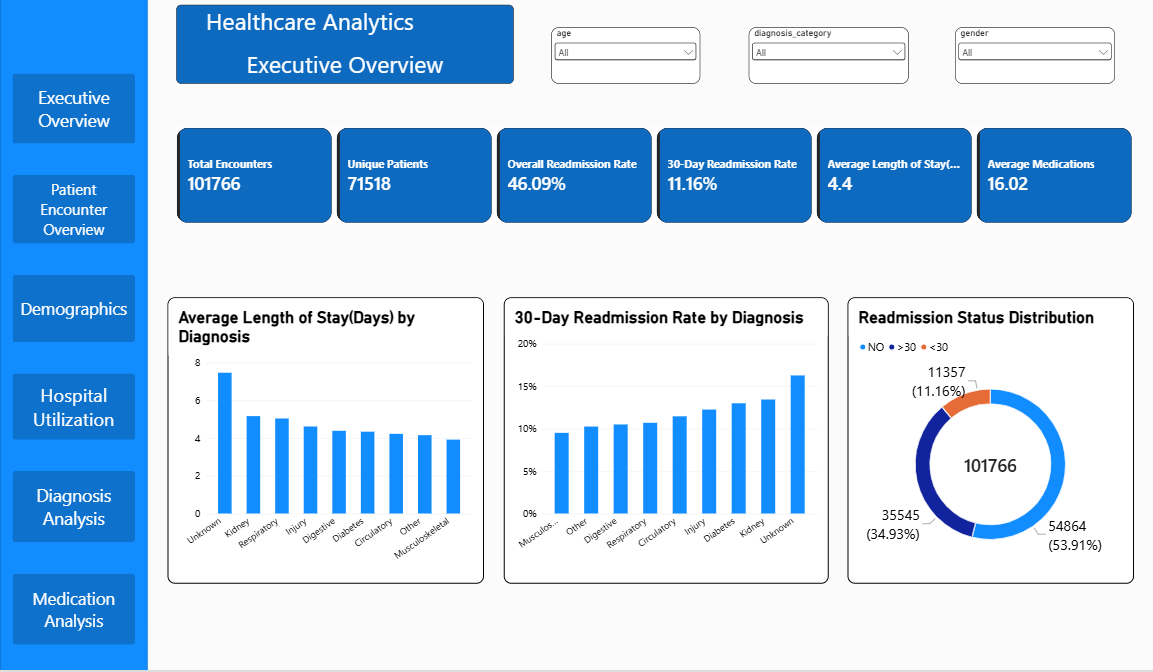

What the dashboard file says about the page in this screenshot:
{"tool":"powerbi","page":{"name":"Executive Overview","canvas":[1920,1080],"ordinal":0},"visuals":[{"type":"slicer","fields":{"Values":["healthcare_data_cleaned.diagnosis_category"]},"box":[1198,50,256,90],"z":6},{"type":"slicer","fields":{"Values":["healthcare_data_cleaned.age"]},"box":[882,50,238,90],"z":7},{"type":"donutChart","title":"Readmission Status Distribution","fields":{"Category":["healthcare_data_cleaned.readmitted"],"Y":["healthcare_data_cleaned.Total Encounters"]},"box":[1356,482,458,458],"z":8},{"type":"clusteredColumnChart","title":"30-Day Readmission Rate by Diagnosis","fields":{"Category":["healthcare_data_cleaned.diagnosis_category"],"Y":["healthcare_data_cleaned.30-Day Readmission Rate"]},"box":[805,482,520,458],"z":9},{"type":"clusteredColumnChart","title":"Average Length of Stay(Days) by Diagnosis","fields":{"Category":["healthcare_data_cleaned.diagnosis_category"],"Y":["healthcare_data_cleaned.Average Length of Stay"]},"box":[268,482,506,458],"z":10},{"type":"textbox","box":[282,14,540,126],"z":11},{"type":"shape","box":[0,0,236,1080],"z":13},{"type":"actionButton","box":[20,124,196,112],"z":14},{"type":"actionButton","box":[20,286,196,110],"z":17},{"type":"actionButton","box":[20,446,196,108],"z":18},{"type":"actionButton","box":[20,604,196,106],"z":19},{"type":"actionButton","box":[20,760,196,114],"z":20},{"type":"actionButton","box":[20,924,196,114],"z":21},{"type":"cardVisual","fields":{"Data":["healthcare_data_cleaned.Total Encounters","healthcare_data_cleaned.Unique Patients","healthcare_data_cleaned.Overall Admission Rate","healthcare_data_cleaned.30-Day Readmission Rate","healthcare_data_cleaned.Average Length of Stay","healthcare_data_cleaned.Average Medications"]},"box":[282,210,1532,154],"z":22},{"type":"slicer","fields":{"Values":["healthcare_data_cleaned.gender"]},"box":[1528,50,256,90],"z":23}]}

Visuals, with their boxes on the page's 1920x1080 design canvas (x1, y1, x2, y2). These are canvas units, not pixel positions in the 1153x672 screenshot, which may show the page scaled, cropped or inside an application window:
slicer - healthcare_data_cleaned.diagnosis_category: detection(1198, 50, 1454, 140)
slicer - healthcare_data_cleaned.age: detection(882, 50, 1120, 140)
"Readmission Status Distribution" donutChart: detection(1356, 482, 1814, 940)
"30-Day Readmission Rate by Diagnosis" clusteredColumnChart: detection(805, 482, 1325, 940)
"Average Length of Stay(Days) by Diagnosis" clusteredColumnChart: detection(268, 482, 774, 940)
textbox: detection(282, 14, 822, 140)
shape: detection(0, 0, 236, 1080)
actionButton: detection(20, 124, 216, 236)
actionButton: detection(20, 286, 216, 396)
actionButton: detection(20, 446, 216, 554)
actionButton: detection(20, 604, 216, 710)
actionButton: detection(20, 760, 216, 874)
actionButton: detection(20, 924, 216, 1038)
cardVisual - healthcare_data_cleaned.Total Encounters x healthcare_data_cleaned.Unique Patients: detection(282, 210, 1814, 364)
slicer - healthcare_data_cleaned.gender: detection(1528, 50, 1784, 140)
